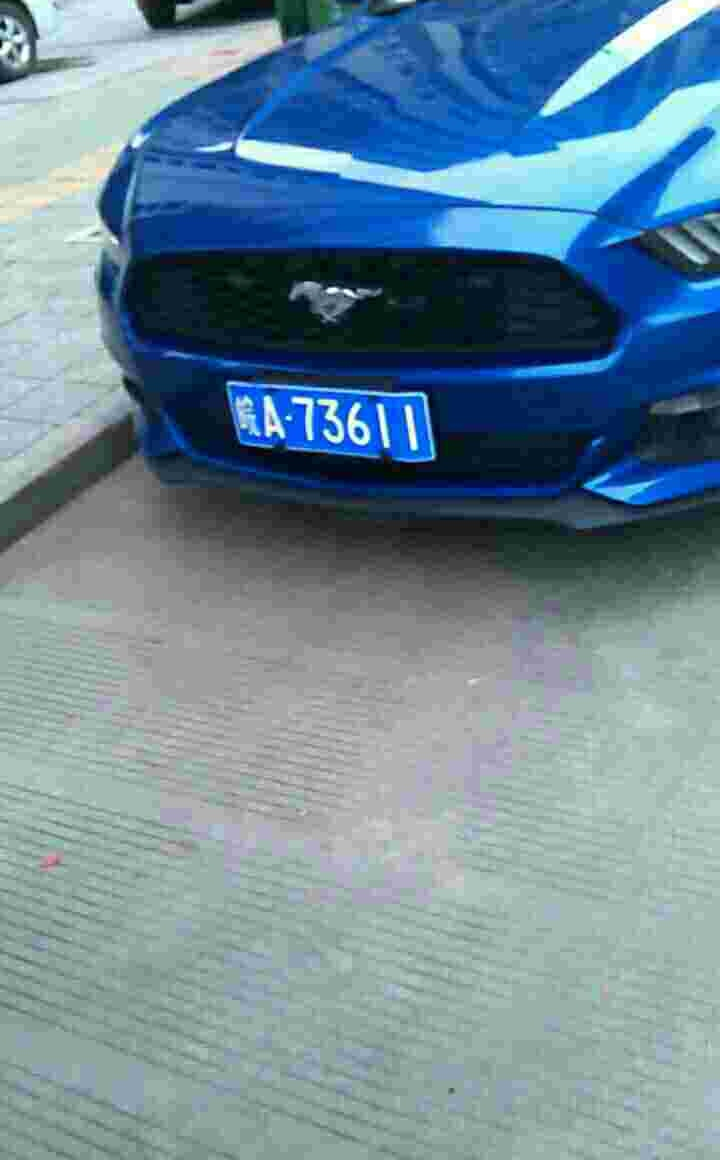license_plate: (229, 376, 439, 449)
